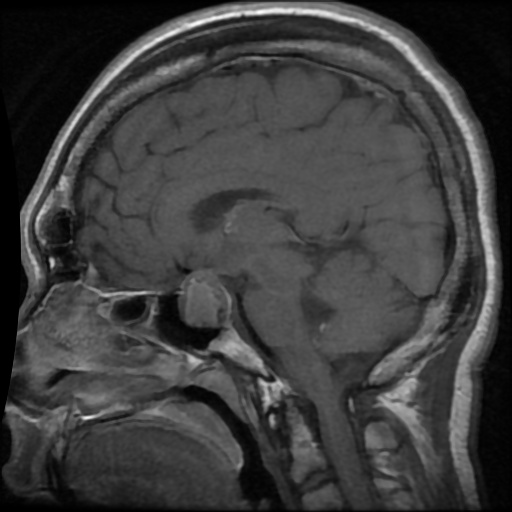pituitary: (176, 270, 230, 326)
